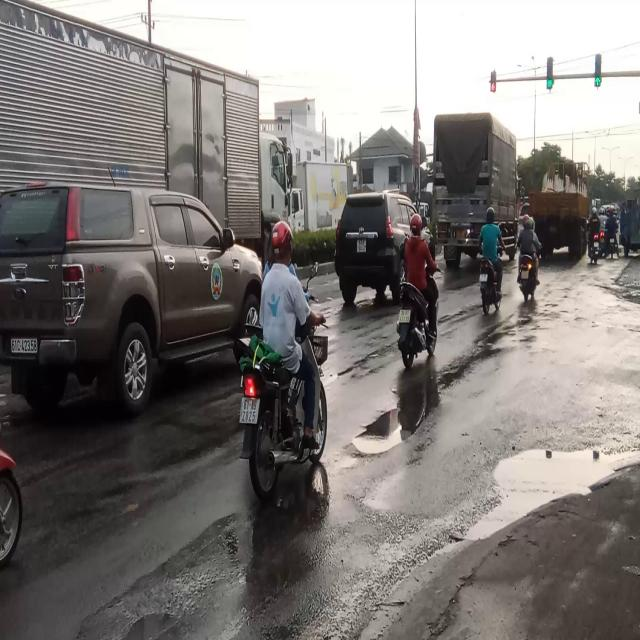bien_trang: (10, 335, 38, 355)
